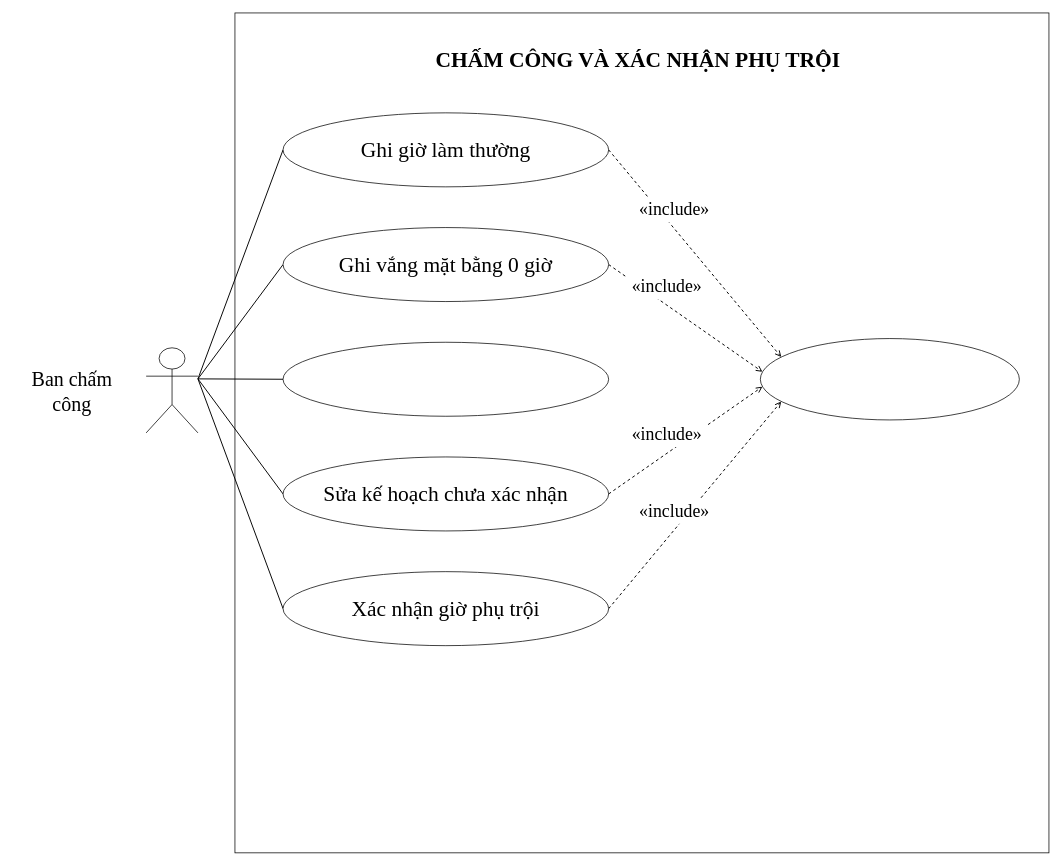
The diagram is 1062 pixels wide and 866 high, and some of its shapes have lost their labels. Here are the shapes that lost their labels. From the top down, the centre of each, then its label:
At (445,379): "Đối chiếu phiếu phụ trội".
At (889,379): "Kiểm tra giờ, trùng khoảng và kỳ chưa chốt".
